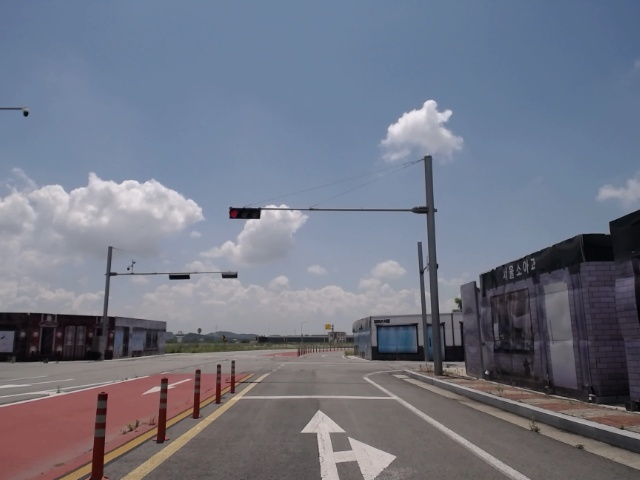red_3: (228, 206, 261, 222)
